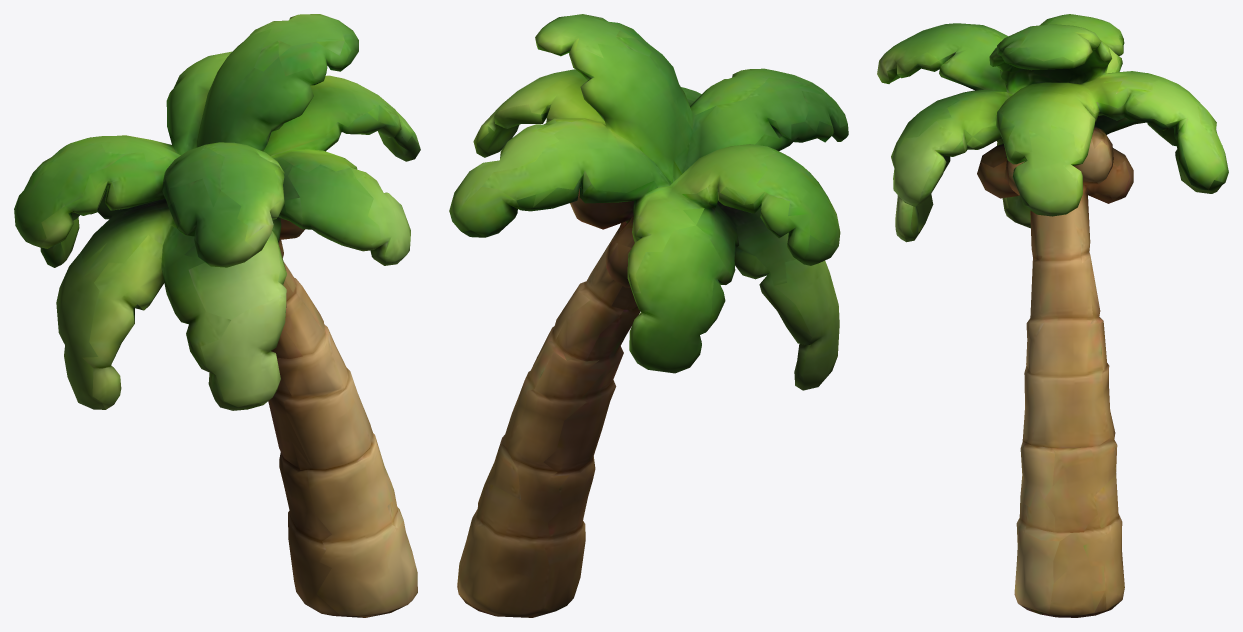
The model's file is palm.glb.
3 views of the same model, side by side, from view 1: azimuth 30°, elevation 25°; view 2: azimuth 150°, elevation 25°; view 3: azimuth 270°, elevation 25° (orthographic). The views are drawn at different scales.
Parts seen in each view (by area): view 1: low; view 2: low; view 3: low.
Part boxes in pixels (x1=…): low: x1=14, y1=14, x2=420, y2=617; low: x1=449, y1=14, x2=848, y2=617; low: x1=877, y1=14, x2=1228, y2=617.
Size of the model in its own units: 1.36 by 2 by 1.19.
1 material, 1 textured.
